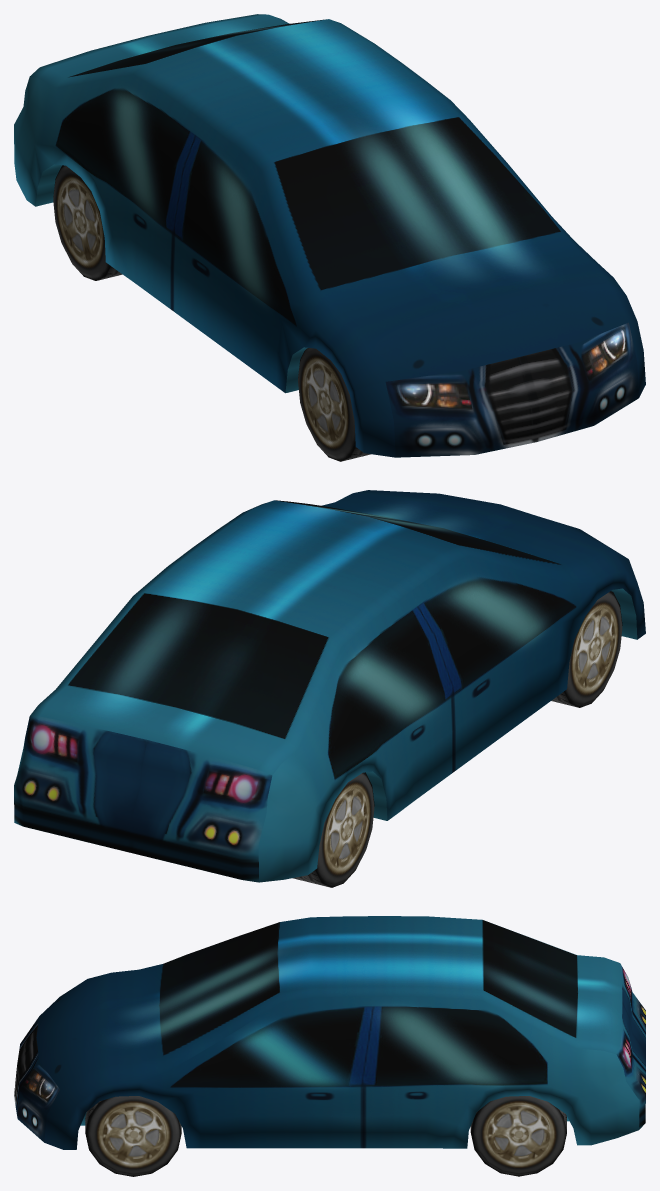
Rendered from CARRO_CEDAN.fbx.
The picture shows the model from 3 angles, top to bottom: view 1: azimuth 30°, elevation 25°; view 2: azimuth 150°, elevation 25°; view 3: azimuth 270°, elevation 25°; orthographic projection. The views are drawn at different scales.
Visible parts, largest first — view 1: CARRO_CEDAN, llanta01, llanta03; view 2: CARRO_CEDAN, llanta03, llanta01; view 3: CARRO_CEDAN, llanta02, llanta04.
Part boxes in pixels (<box>): CARRO_CEDAN: <box>14,14,645,457</box>; llanta01: <box>298,348,370,461</box>; llanta03: <box>53,165,122,280</box>; CARRO_CEDAN: <box>14,490,645,882</box>; llanta03: <box>293,772,374,887</box>; llanta01: <box>551,591,622,707</box>; CARRO_CEDAN: <box>14,916,645,1149</box>; llanta02: <box>85,1096,181,1176</box>; llanta04: <box>470,1096,566,1176</box>.
Size of the model in its own units: 8.19 by 6.41 by 20.36.
